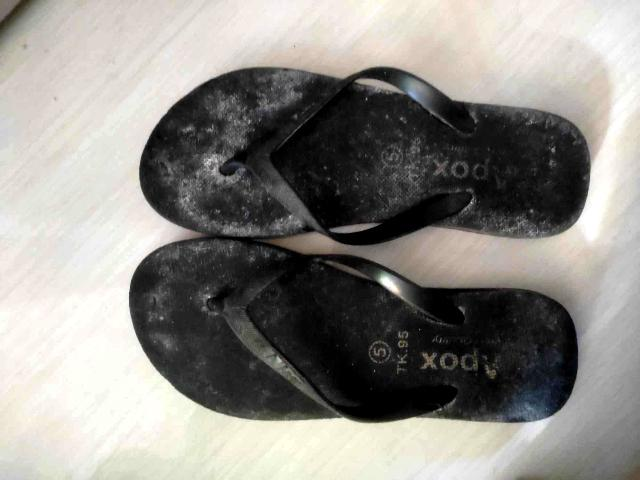sandal: (134, 45, 600, 286), (119, 260, 579, 464)
